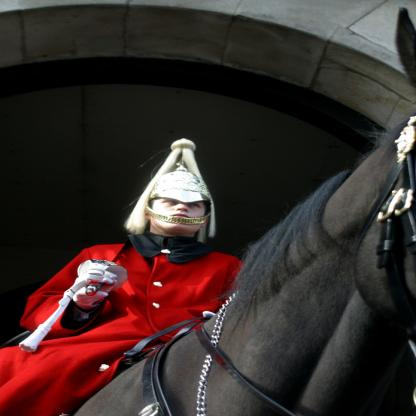Helmet: (122, 136, 216, 242)
